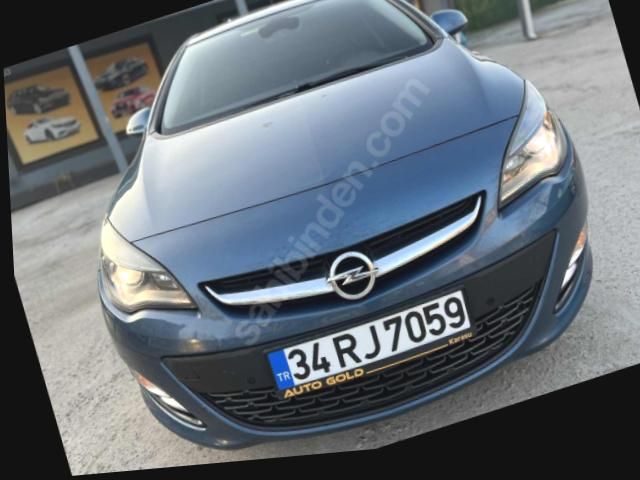plaka: (267, 290, 471, 389)
